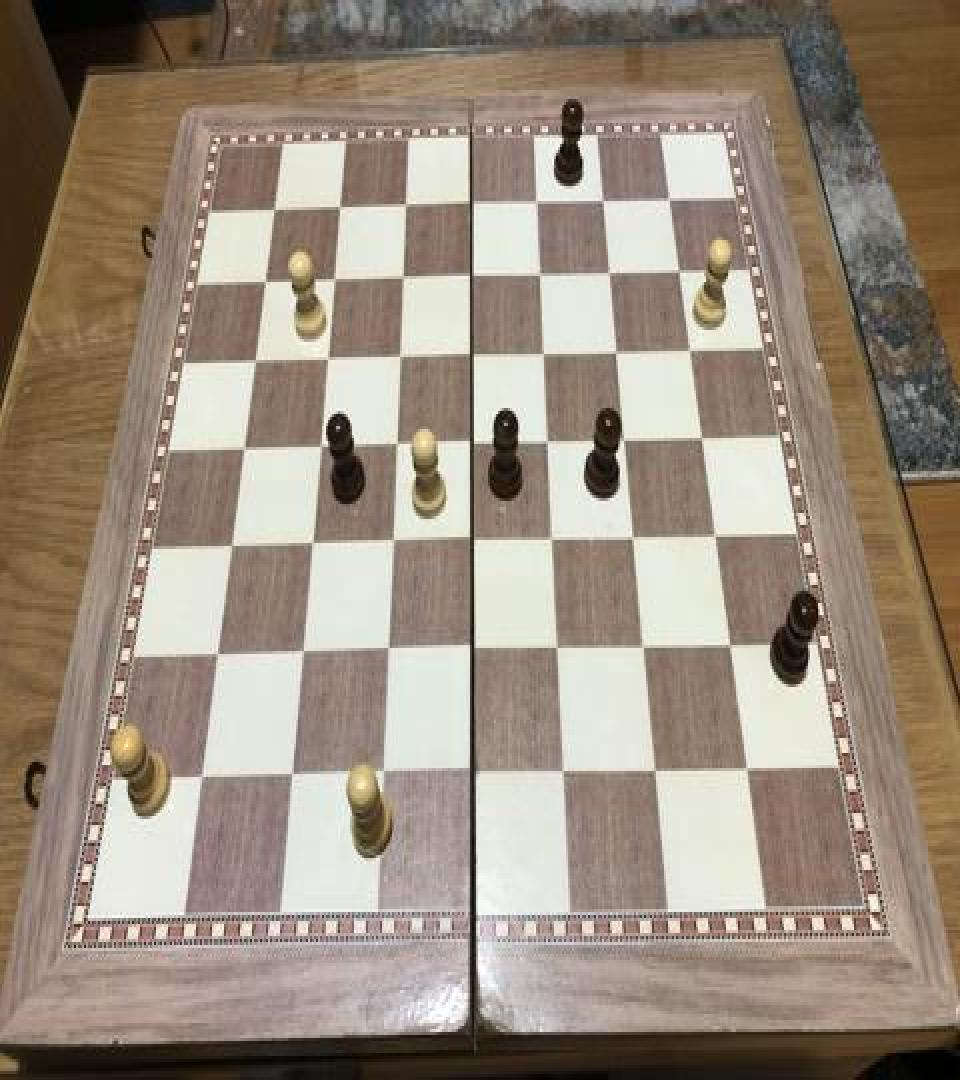xcorner: (625, 520, 649, 557), (550, 631, 574, 668), (291, 637, 315, 674), (556, 754, 580, 791), (188, 763, 212, 800), (659, 186, 683, 222), (593, 186, 617, 222), (394, 189, 418, 225), (328, 189, 352, 225), (261, 190, 285, 226), (669, 256, 693, 292), (600, 258, 624, 294), (392, 261, 416, 297), (322, 261, 346, 297), (252, 262, 276, 298), (680, 336, 704, 372), (607, 338, 631, 374), (535, 338, 559, 374), (462, 339, 486, 375), (389, 340, 413, 376), (315, 340, 339, 376), (241, 342, 265, 378), (692, 423, 716, 459), (616, 424, 640, 460), (539, 426, 563, 462), (463, 426, 487, 462), (385, 428, 409, 464), (308, 429, 332, 465), (706, 519, 730, 555), (544, 522, 568, 558), (463, 525, 487, 561), (382, 526, 406, 562), (300, 528, 324, 564), (218, 530, 242, 566), (721, 628, 745, 664), (636, 630, 660, 666), (464, 633, 488, 669), (378, 636, 402, 672), (204, 639, 228, 675), (738, 750, 762, 786), (647, 752, 671, 788), (465, 758, 489, 794), (373, 759, 397, 795), (281, 762, 305, 798), (527, 188, 551, 223), (461, 188, 485, 223), (531, 260, 555, 295), (461, 260, 485, 295), (230, 431, 254, 466)
